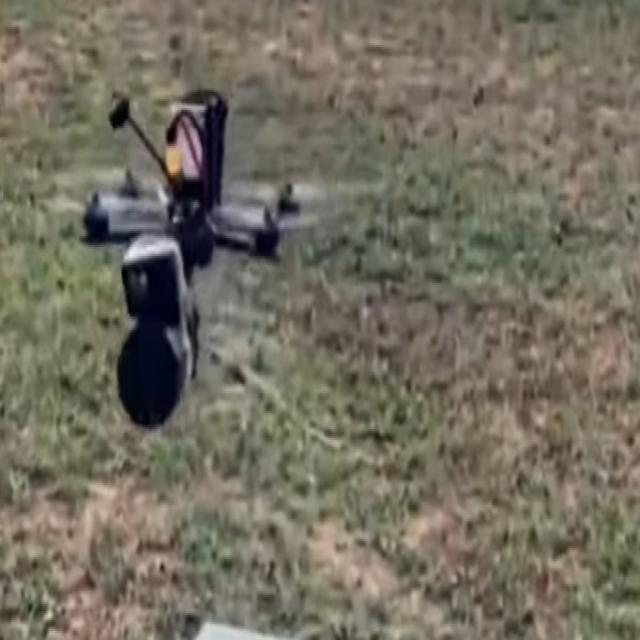drone: (59, 82, 328, 431)
